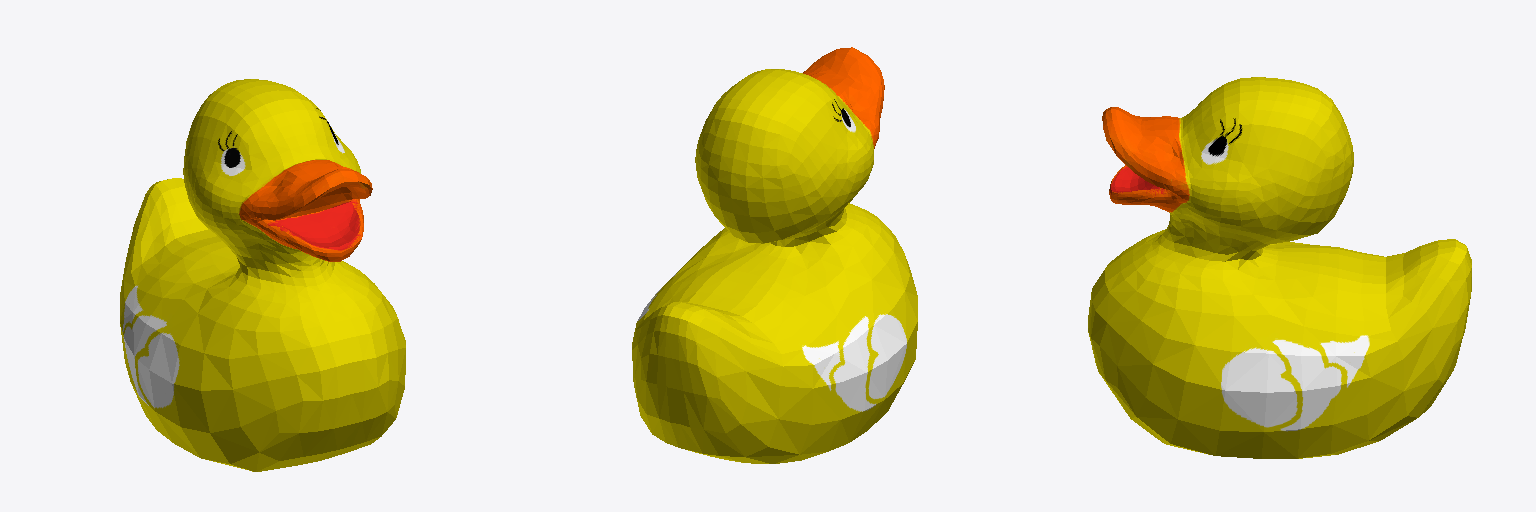
3 renders of one model, left to right at view 1: azimuth 30°, elevation 25°; view 2: azimuth 150°, elevation 25°; view 3: azimuth 270°, elevation 25°, orthographic.
Visible parts, largest first — view 1: duck_smooth; view 2: duck_smooth; view 3: duck_smooth.
Boxes of the visible parts, <box> form: duck_smooth: <box>120,79,405,471</box>; duck_smooth: <box>632,47,917,463</box>; duck_smooth: <box>1088,77,1471,458</box>.
Size of the model in its own units: 11.49 by 16.55 by 16.84.
Materials: 1 (1 with a texture image).